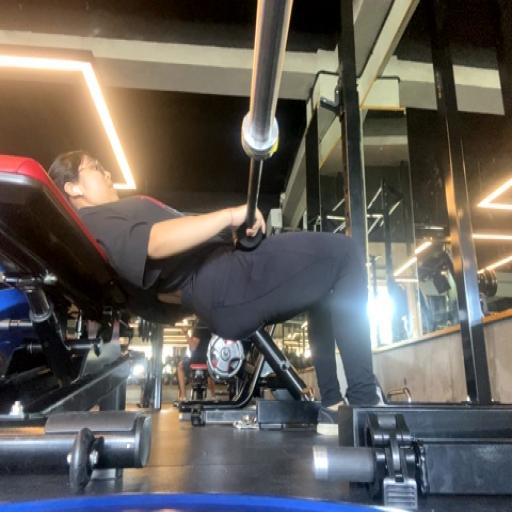exercise: (46, 147, 391, 428)
